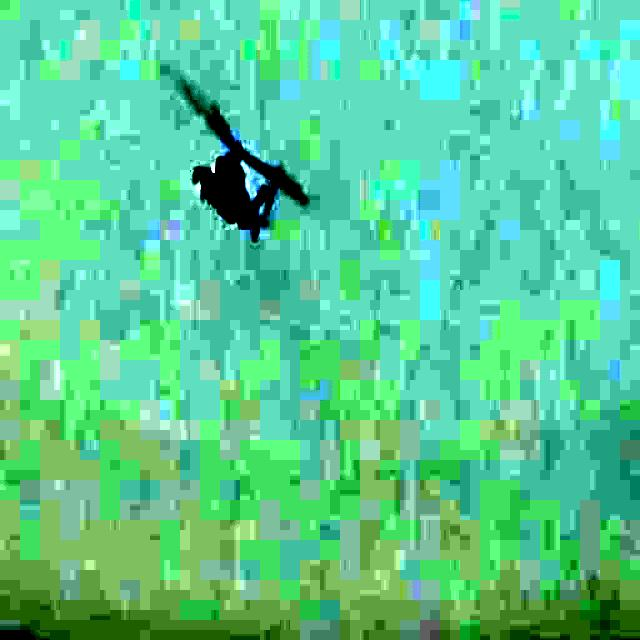drone: (176, 76, 312, 242)
